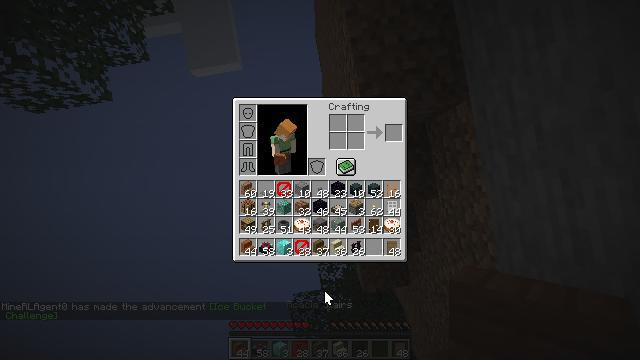cursor: (324, 290, 334, 306)
